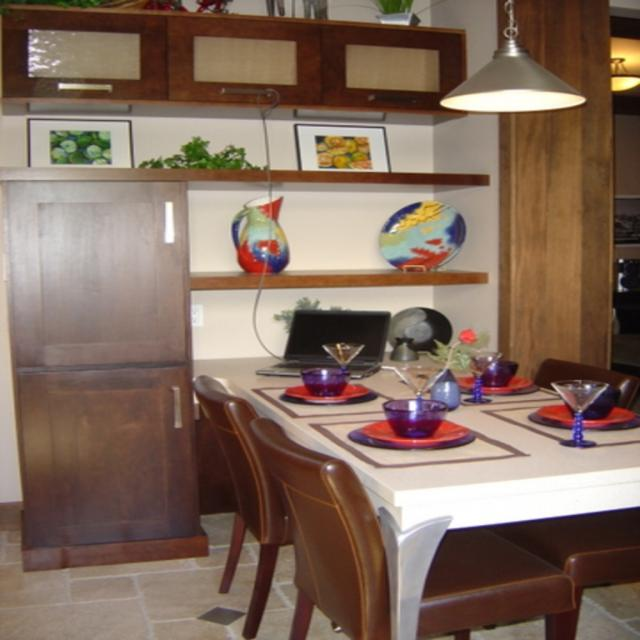chair: (246, 416, 580, 640), (192, 375, 296, 638), (559, 546, 639, 640), (532, 358, 640, 414)
desk: (250, 402, 638, 636)
laptop: (254, 309, 389, 377)
